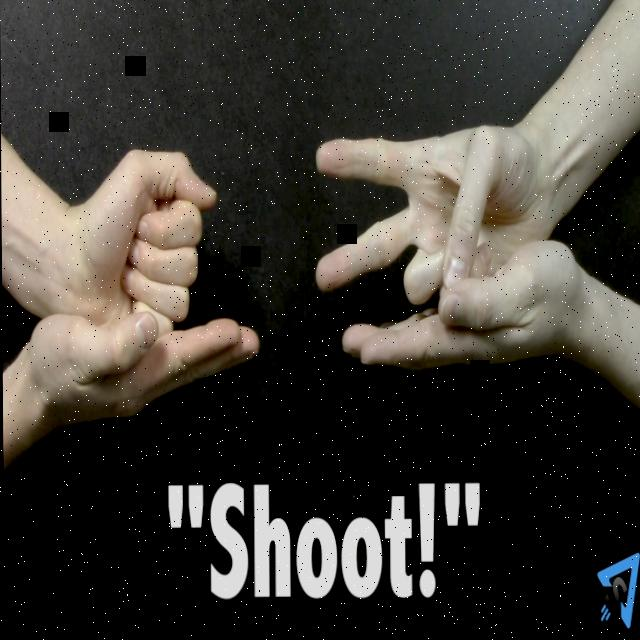Rock: (75, 144, 221, 341)
Scissors: (313, 128, 557, 305)
